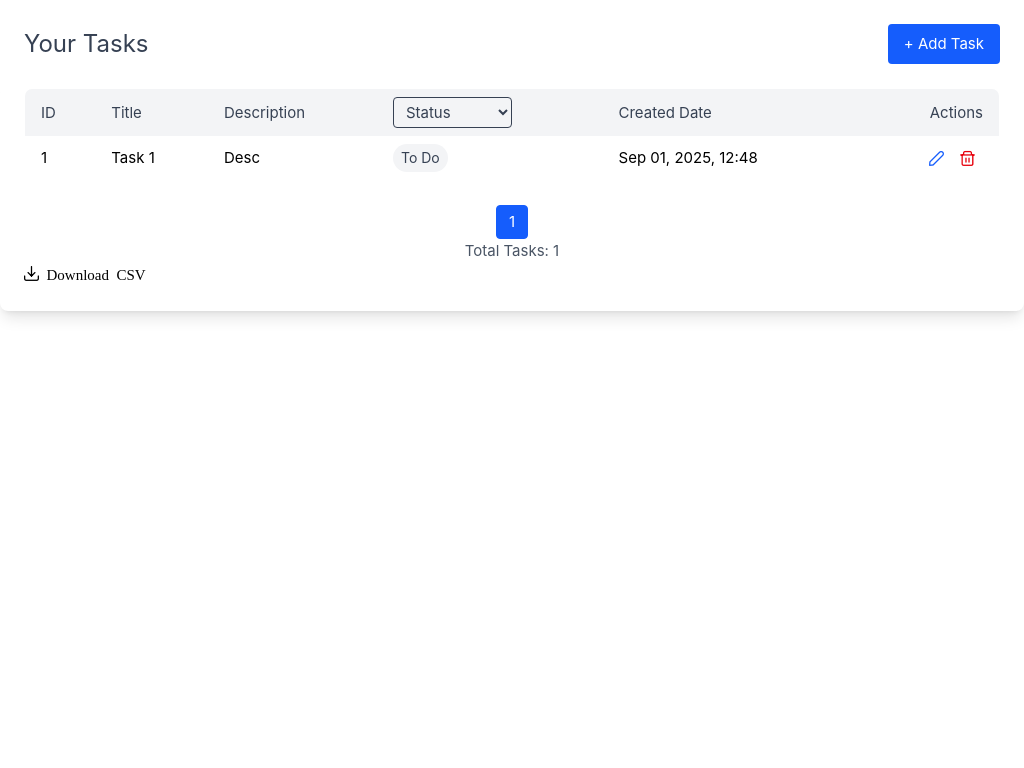
TaskListing.vue › opens modal when "+ Add Task" button is clicked
Click the button "+ Add Task": (944, 44) 888,24 -> 1000,64
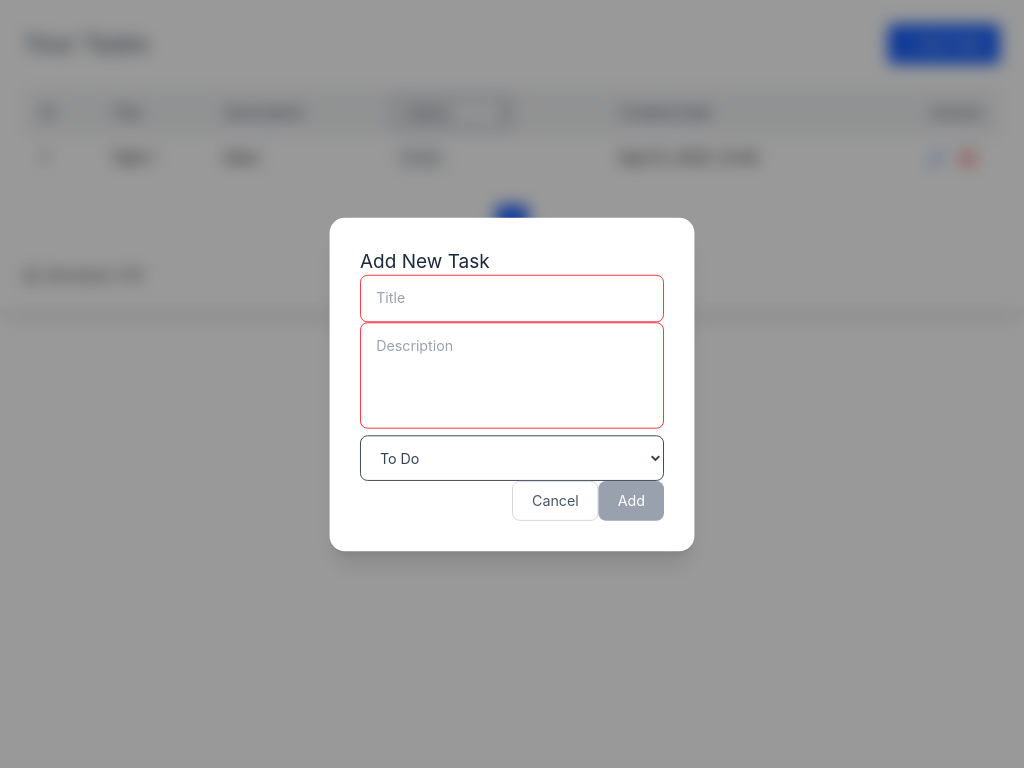
expect the text "Add New Task" is shown: met, box 360,250 -> 490,272
